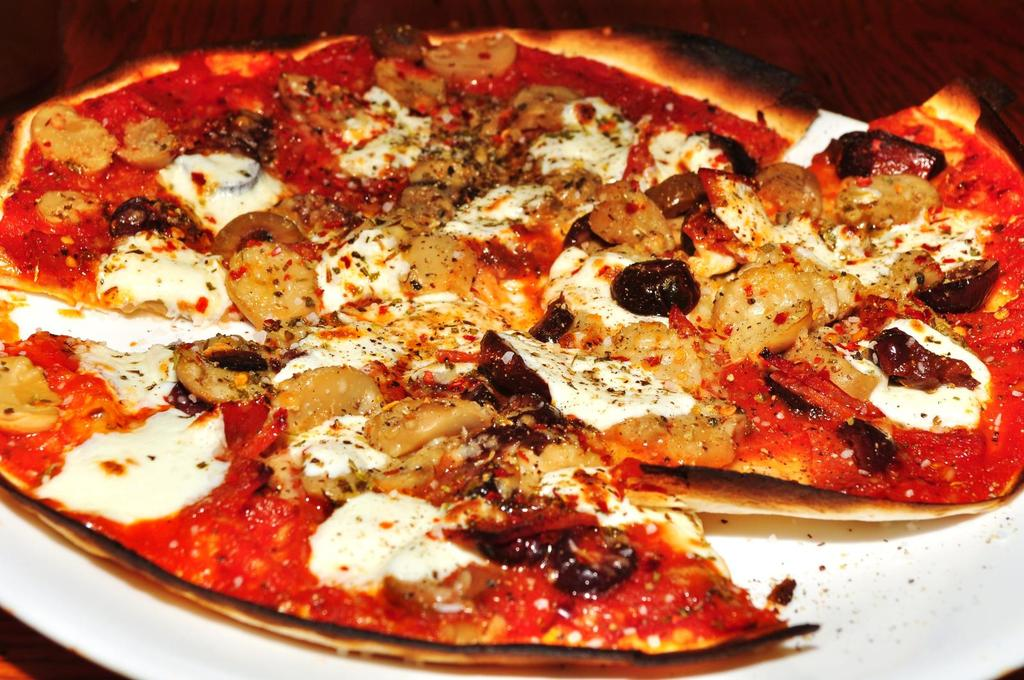Pizza: (0, 11, 1010, 662)
